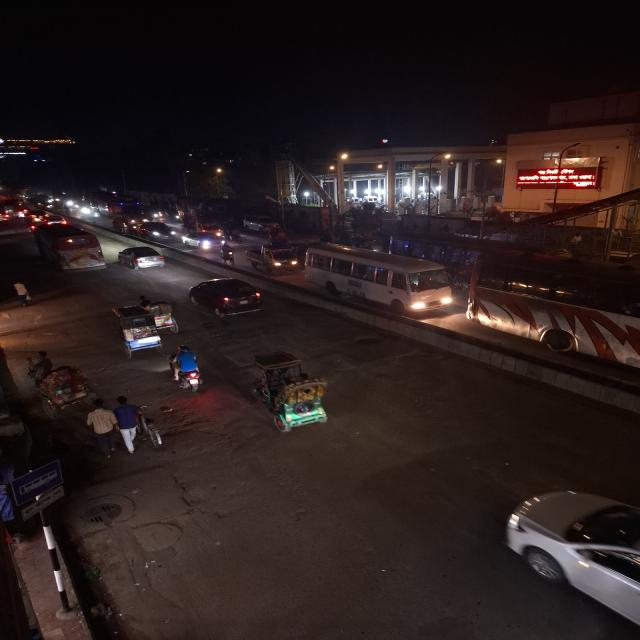bicycle: (146, 408, 166, 462)
bus: (301, 241, 456, 313), (32, 224, 108, 274)
car: (496, 485, 640, 637), (462, 256, 640, 370), (186, 276, 266, 320), (246, 244, 301, 272), (115, 244, 167, 272), (137, 220, 176, 238), (181, 232, 215, 251), (43, 216, 68, 224)
motorcycle: (167, 345, 210, 395), (218, 244, 238, 266)
pedestrian: (83, 400, 123, 457), (109, 392, 138, 455), (10, 279, 34, 308)
rickshaw: (243, 355, 340, 434), (23, 348, 97, 414), (105, 306, 166, 358), (141, 298, 182, 334)
truck: (247, 244, 300, 272)
